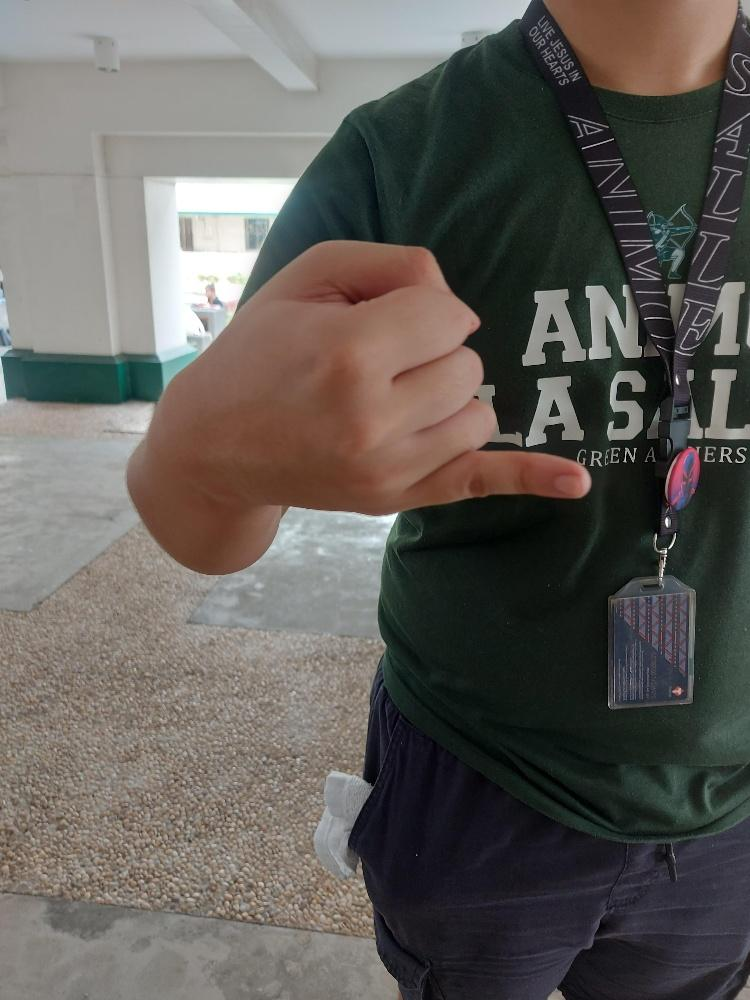j: (187, 234, 598, 513)
